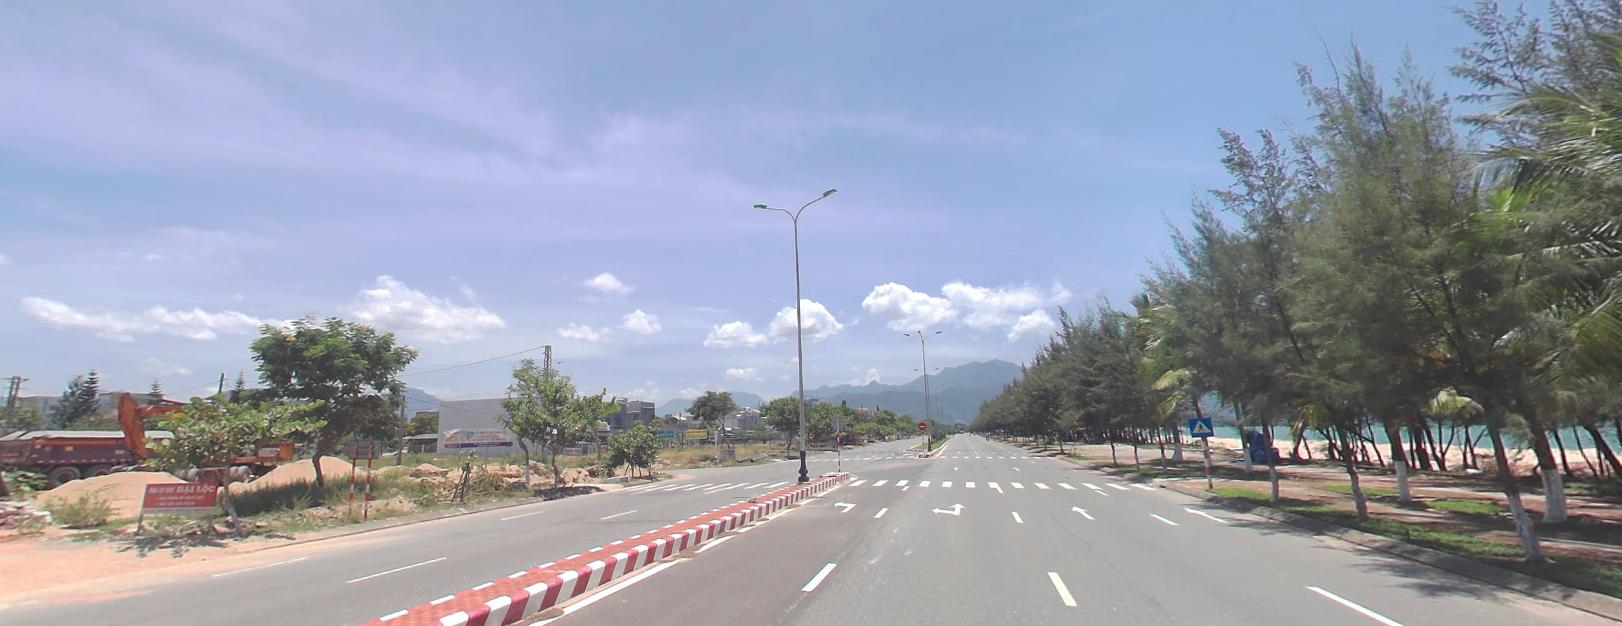Cam nguoc chieu: (918, 420, 926, 427)
